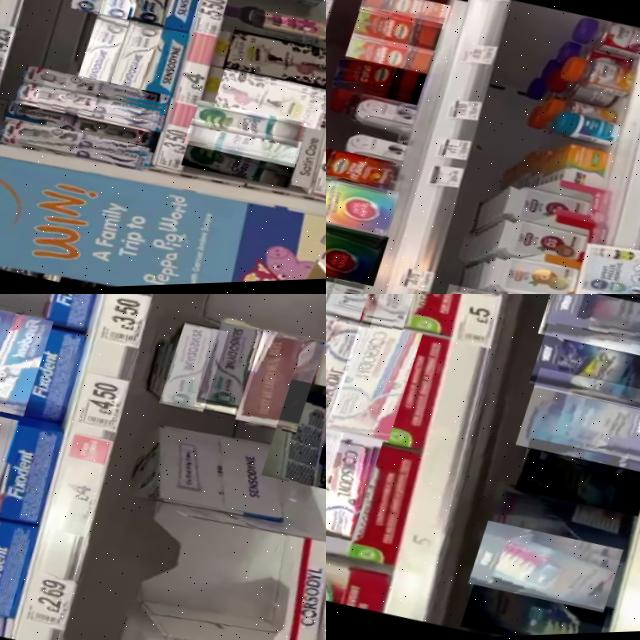Other: (475, 518, 634, 618), (520, 365, 640, 478), (520, 431, 640, 522), (533, 319, 640, 416), (469, 578, 619, 640), (540, 294, 640, 369), (218, 66, 326, 135), (490, 212, 600, 276), (227, 27, 326, 98), (190, 117, 312, 173), (496, 180, 599, 244), (187, 139, 306, 194), (197, 99, 315, 154), (326, 168, 405, 243), (326, 210, 394, 290), (332, 54, 430, 109), (479, 245, 588, 294), (344, 29, 438, 80), (553, 50, 640, 105), (352, 5, 445, 56), (326, 140, 400, 198), (541, 87, 622, 138), (567, 14, 640, 62), (555, 108, 630, 154), (556, 141, 610, 201)
Toothbrush: (7, 95, 170, 159), (4, 113, 163, 178), (25, 61, 179, 122), (19, 78, 170, 139)
Toothpaste: (331, 318, 429, 444), (240, 329, 326, 436), (326, 431, 390, 542), (200, 323, 272, 420), (267, 379, 326, 496), (0, 308, 59, 418), (165, 323, 234, 416), (326, 304, 370, 428), (115, 19, 170, 97), (84, 12, 136, 87), (326, 294, 412, 329), (363, 294, 441, 332), (326, 423, 352, 532), (0, 409, 28, 500)
